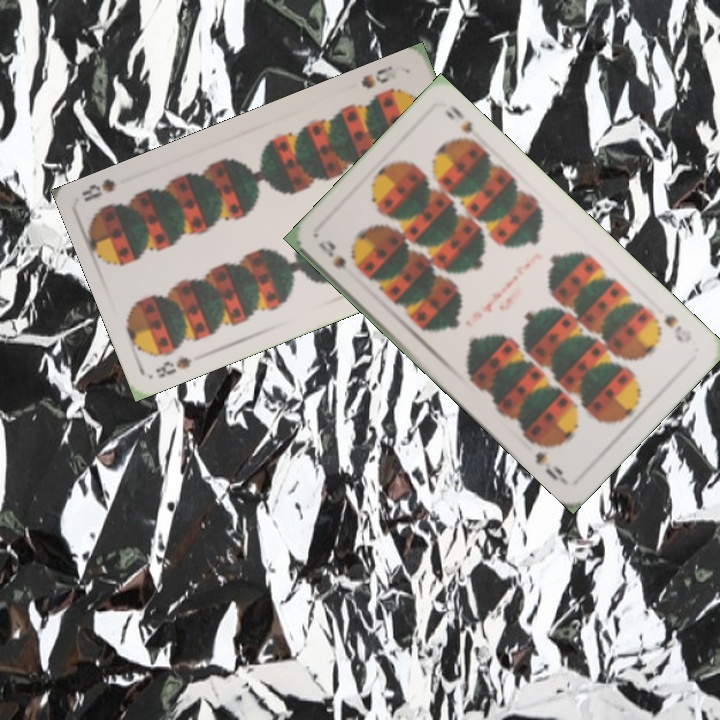S8: (357, 62, 406, 92), (151, 352, 194, 381)
S9: (314, 236, 350, 272), (660, 311, 695, 346)
